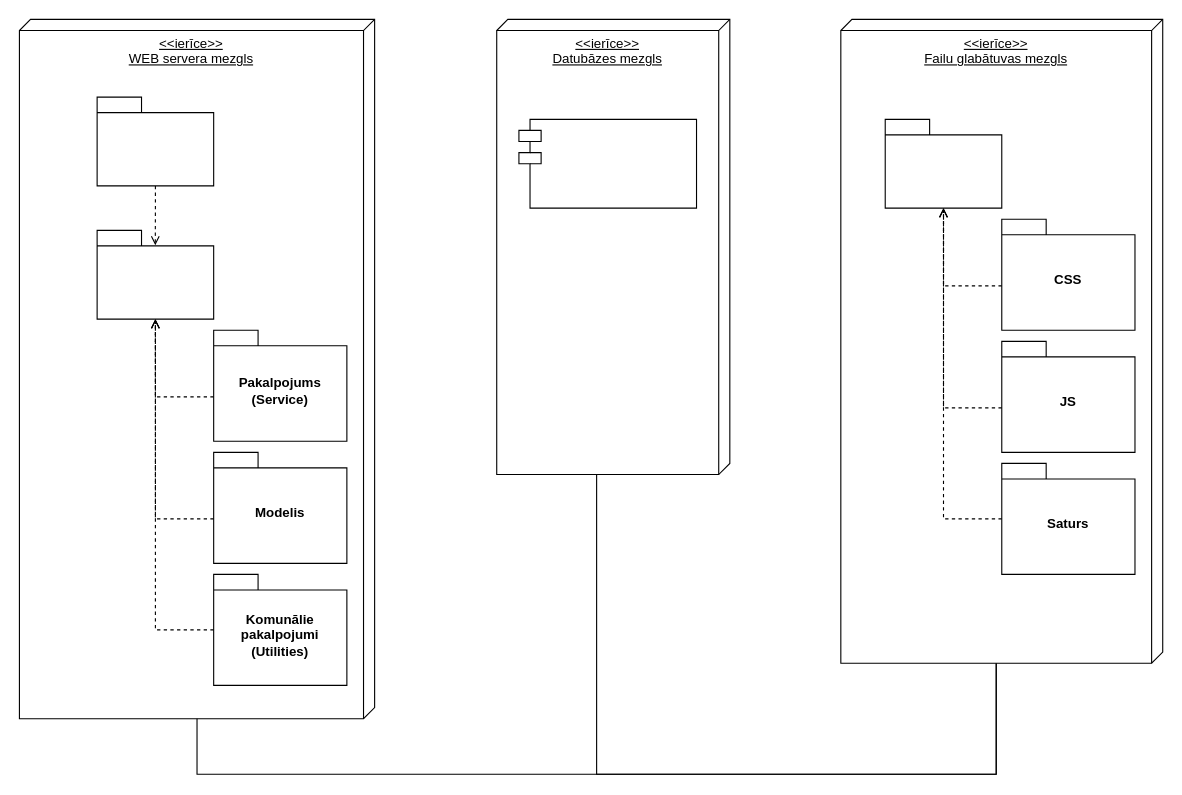
Some shapes in this 1182 by 795 pixel diagram are drawn without their labels. The shapes that lost their labels are listed below. From the top down, each one's centre as x and y in pixels, then its label:
the point at 155,141: core
the point at 607,163: Datubāzes shēmas
the point at 943,163: Publisks
the point at 155,274: API
